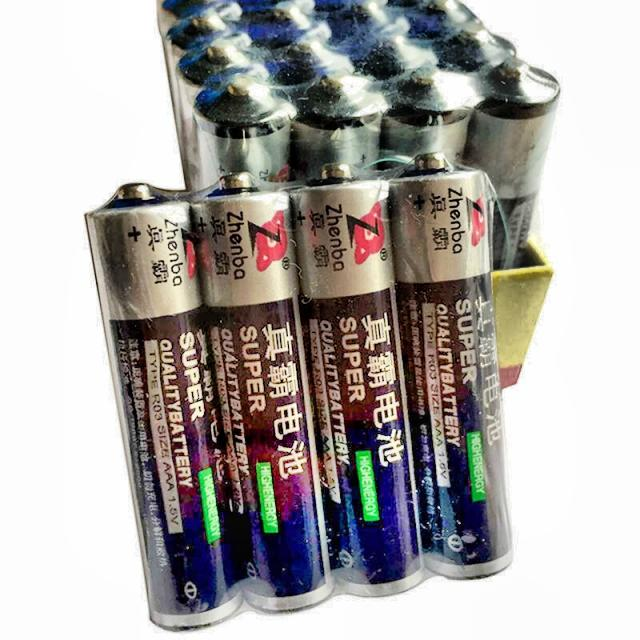Non-Valuable Waste - Batteries: (158, 0, 560, 266), (86, 184, 242, 629), (192, 172, 332, 612), (292, 164, 422, 596), (390, 154, 511, 579)
